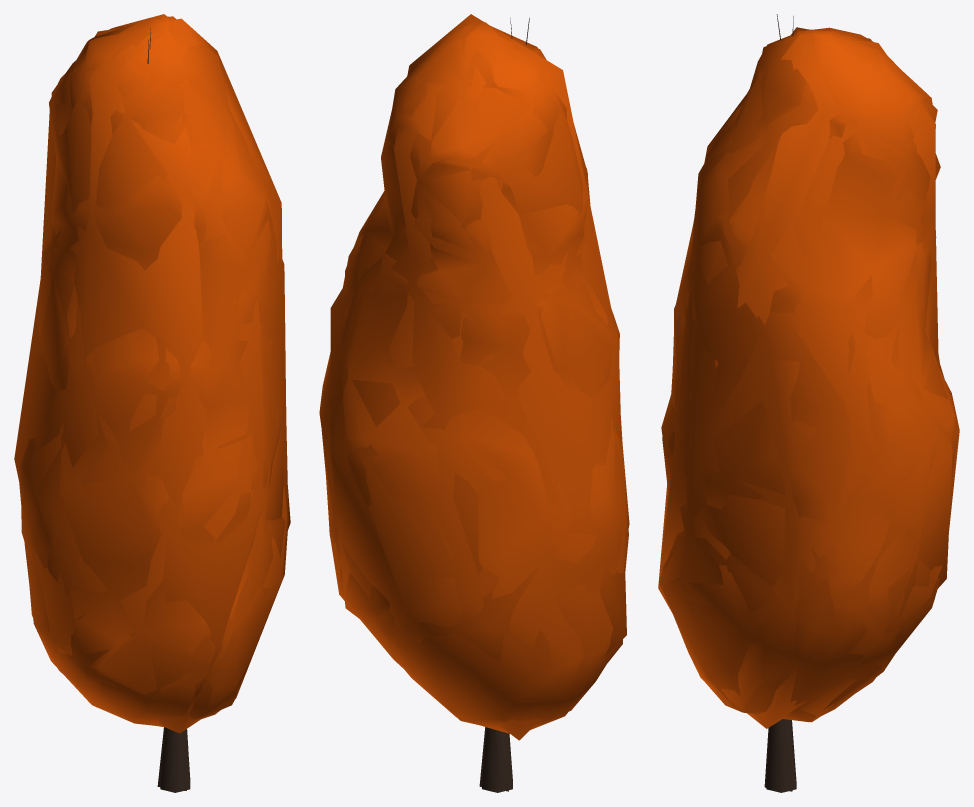
Rendered from Tree3.fbx.
The picture shows the model from 3 angles, left to right: view 1: azimuth 30°, elevation 25°; view 2: azimuth 150°, elevation 25°; view 3: azimuth 270°, elevation 25°; orthographic projection. The views are drawn at different scales.
Visible parts, largest first — view 1: tree.001, tree.003, tree.002; view 2: tree.001, tree.002, tree.003; view 3: tree.001, tree.002, tree.003.
Boxes of the visible parts, x1,y1,x2,y2 form: tree.001: [19, 16, 287, 792]; tree.003: [14, 18, 290, 786]; tree.002: [19, 14, 288, 790]; tree.001: [319, 18, 629, 792]; tree.002: [321, 17, 628, 792]; tree.003: [330, 14, 626, 791]; tree.001: [661, 15, 958, 792]; tree.002: [659, 14, 959, 791]; tree.003: [658, 27, 952, 728].
Size of the model in its own units: 10.03 by 28.04 by 10.07.
